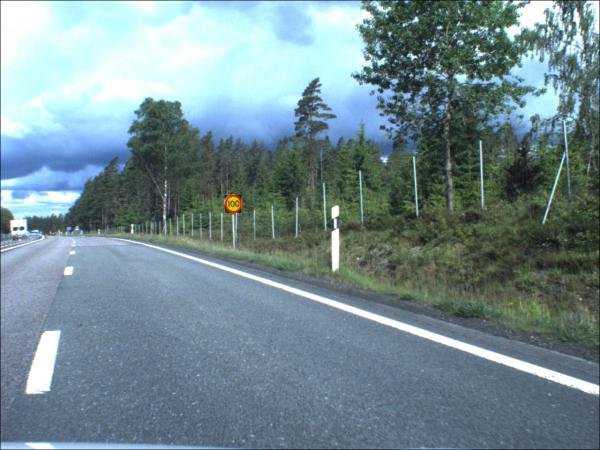100_SIGN: (226, 196, 243, 215)
